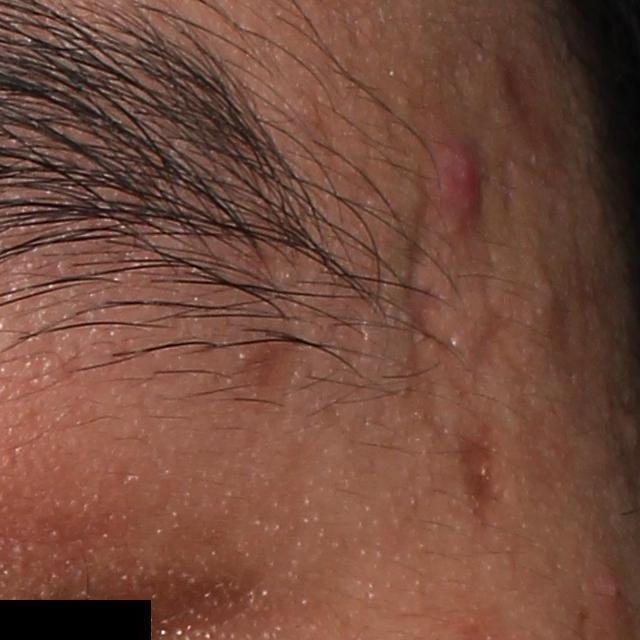atrophic_scar: (404, 197, 461, 442), (461, 425, 510, 518)
papule: (444, 141, 481, 225), (589, 565, 634, 625)
